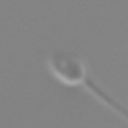normal: (84, 77, 128, 121)
